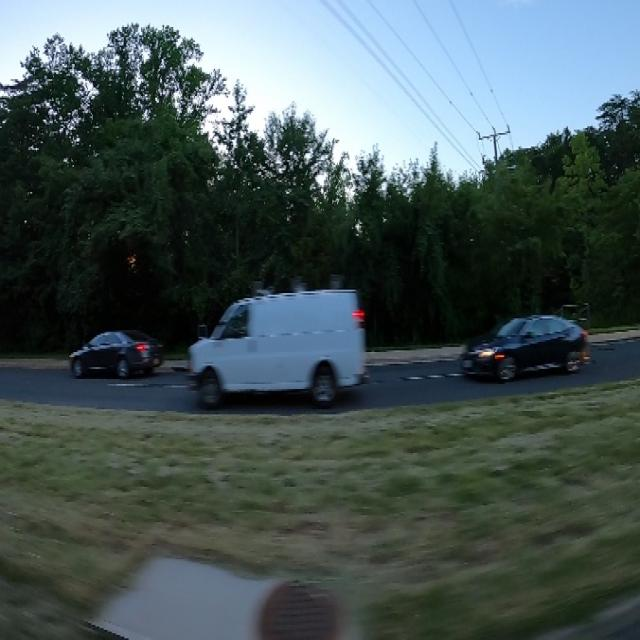Cars: (470, 308, 590, 371), (70, 329, 164, 378)
Jeep: (192, 294, 374, 414)
